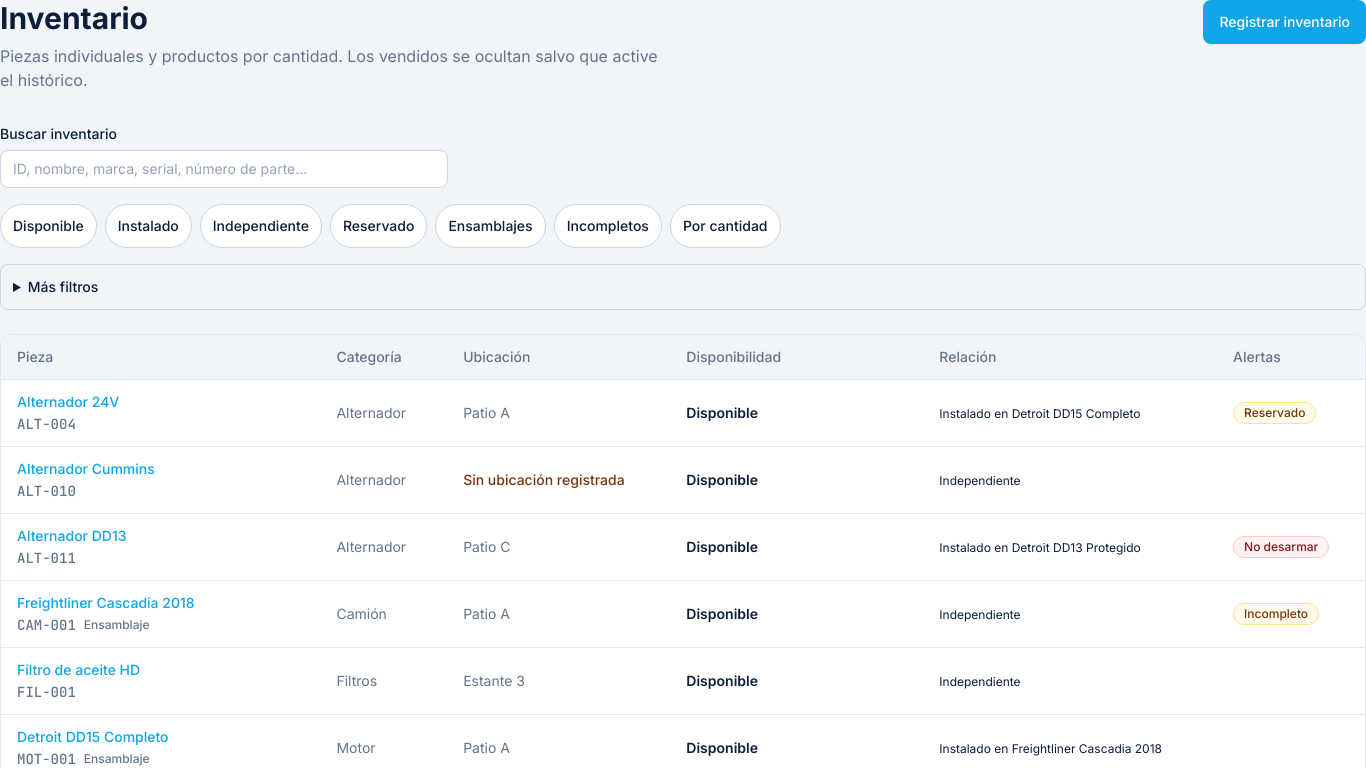
Scenario: InventoryPage › keeps enrichment fields collapsed until the operator opens them
Expected: the text "Filtro de aceite HD" is shown, [17,661,140,678]
Click the button "Registrar inventario": (1285, 22) [1204,0,1365,44]
(page scrolled)
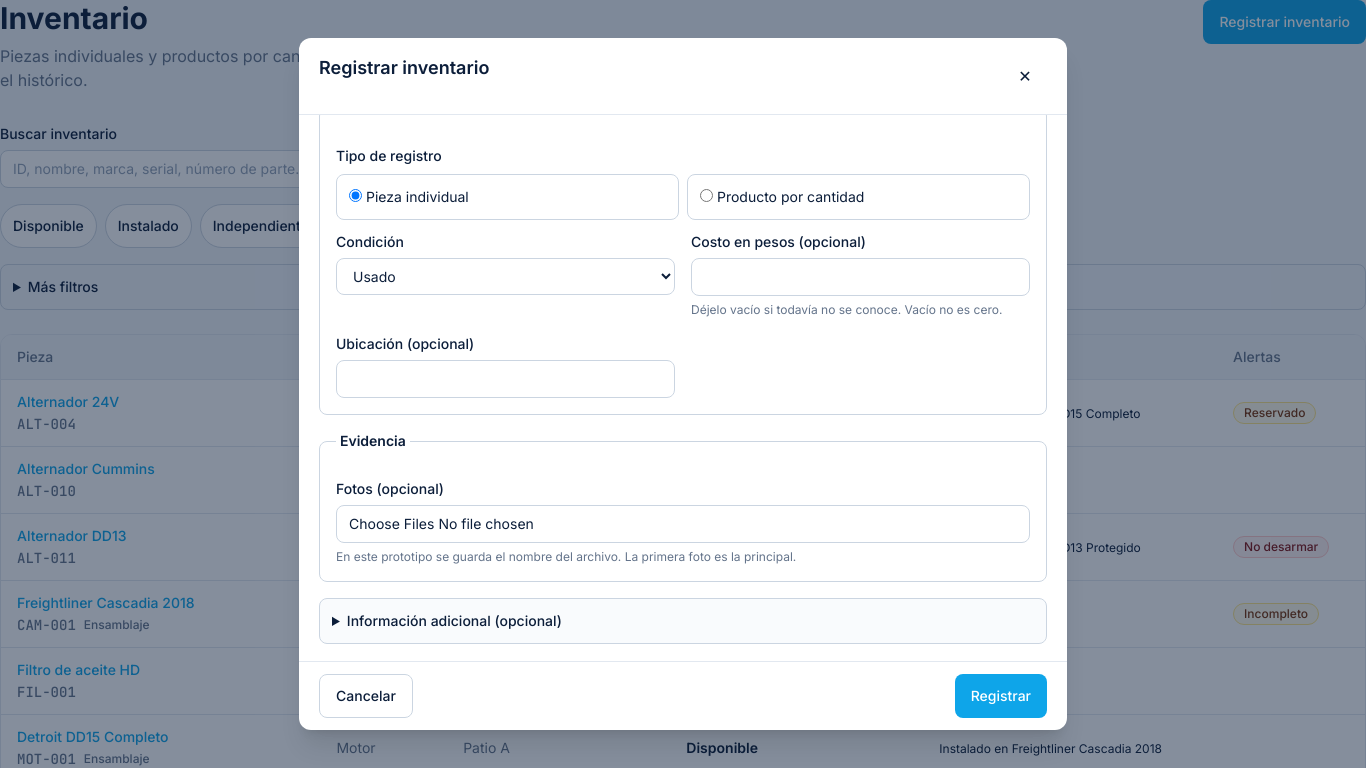
Now the element "Inventario" is shown, box [319,115,1047,415]
Now the element "Evidencia" is shown, box [319,431,1047,582]
Now the dropdown labelled "Condición" is shown, box [336,258,675,295]
Click the heading "Información adicional (opcional)": (454, 621) [347,612,562,629]
(page scrolled)
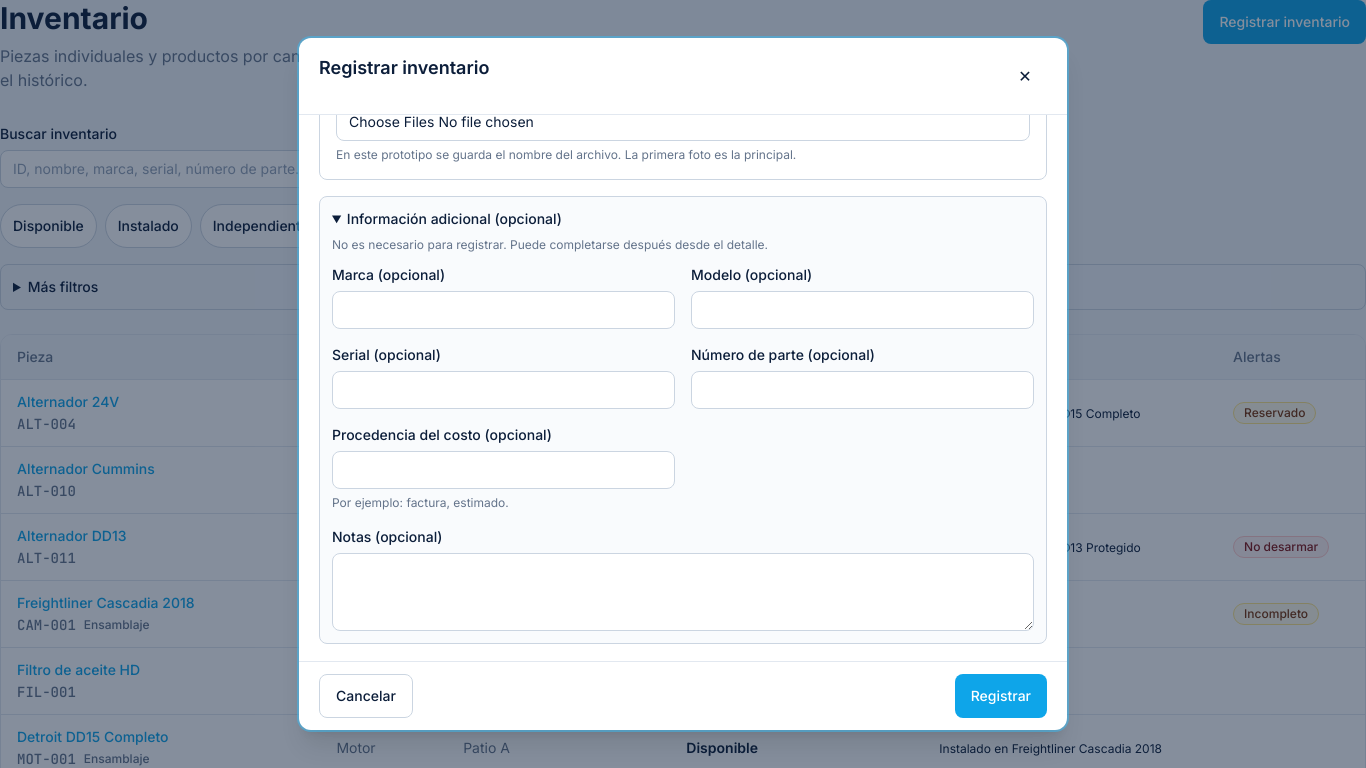
Now the field labelled "Serial (opcional)" is shown, box [332,371,675,409]
